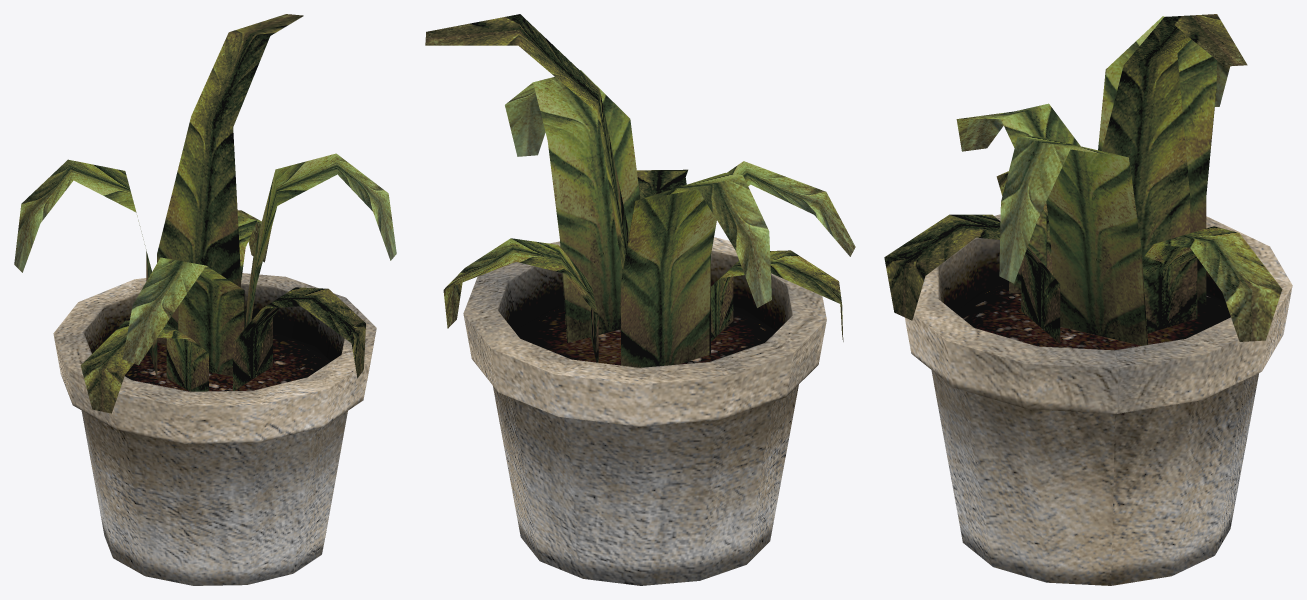
The model's file is planta2.glb.
3 views of the same model, side by side, from view 1: azimuth 30°, elevation 25°; view 2: azimuth 150°, elevation 25°; view 3: azimuth 270°, elevation 25° (orthographic). The views are drawn at different scales.
Visible parts, largest first — view 1: Cylinder_0, Cylinder.001_1; view 2: Cylinder_0, Cylinder.001_1; view 3: Cylinder_0, Cylinder.001_1.
Boxes of the visible parts, bbox=[...] form: Cylinder_0: bbox=[53, 273, 376, 585]; Cylinder.001_1: bbox=[14, 14, 396, 413]; Cylinder_0: bbox=[463, 237, 826, 585]; Cylinder.001_1: bbox=[425, 14, 855, 367]; Cylinder_0: bbox=[904, 214, 1292, 585]; Cylinder.001_1: bbox=[884, 14, 1282, 345].
Bounding box in the file's own units: 0.3189 × 0.4633 × 0.3054.
2 materials, 2 textured.
